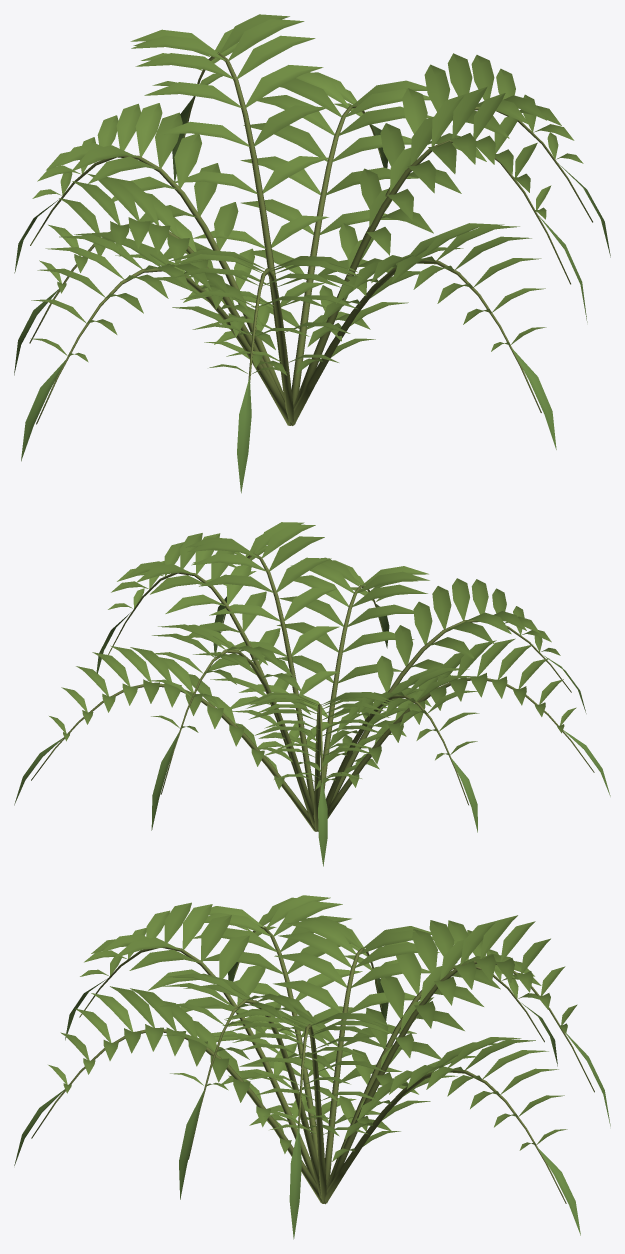
File: fern_0_lod1.glb
The picture shows the model from 3 angles, top to bottom: view 1: azimuth 30°, elevation 25°; view 2: azimuth 150°, elevation 25°; view 3: azimuth 270°, elevation 25°; orthographic projection. The views are drawn at different scales.
Visible parts, largest first — view 1: fern_0_lod1; view 2: fern_0_lod1; view 3: fern_0_lod1.
Part boxes in pixels (x1,y1,x2,y2): fern_0_lod1: [14, 14, 610, 493]; fern_0_lod1: [14, 522, 610, 866]; fern_0_lod1: [14, 895, 610, 1239].
Size of the model in its own units: 1.5 by 0.7204 by 1.42.
